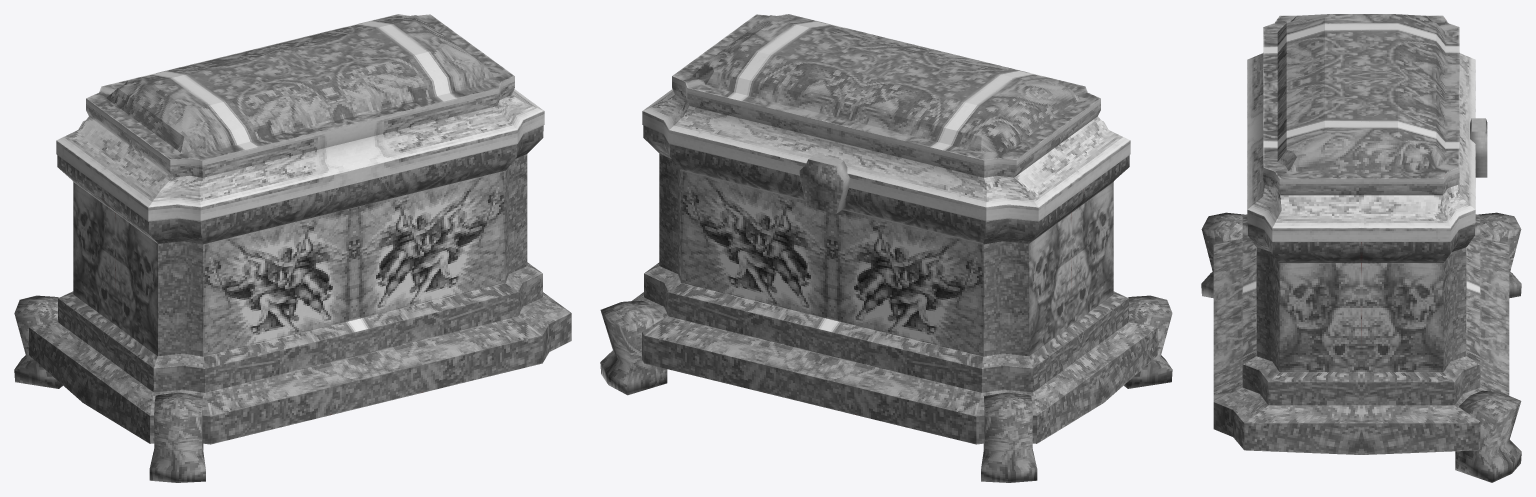
The model's file is ChestOpen.fbx.
3 views of the same model, side by side, from view 1: azimuth 30°, elevation 25°; view 2: azimuth 150°, elevation 25°; view 3: azimuth 270°, elevation 25° (orthographic). The views are drawn at different scales.
Parts seen in each view (by area): view 1: Cube.011, Cube.008, Cube.014, Cube.012; view 2: Cube.011, Cube.008, Cube.012, Cube.010, Cube.009, Cube.014; view 3: Cube.011, Cube.008, Cube.010, Cube.012, Cube.014, Cube.009.
Boxes of the visible parts, x1=… form: Cube.011: x1=29, y1=125, x2=571, y2=444; Cube.008: x1=56, y1=14, x2=544, y2=221; Cube.014: x1=149, y1=392, x2=205, y2=482; Cube.012: x1=14, y1=295, x2=62, y2=388; Cube.011: x1=631, y1=125, x2=1157, y2=444; Cube.008: x1=642, y1=14, x2=1130, y2=221; Cube.012: x1=981, y1=392, x2=1037, y2=482; Cube.010: x1=600, y1=300, x2=667, y2=395; Cube.009: x1=799, y1=154, x2=849, y2=213; Cube.014: x1=1124, y1=295, x2=1172, y2=388; Cube.011: x1=1213, y1=214, x2=1509, y2=454; Cube.008: x1=1247, y1=14, x2=1475, y2=241; Cube.010: x1=1455, y1=390, x2=1521, y2=482; Cube.012: x1=1477, y1=212, x2=1521, y2=298; Cube.014: x1=1201, y1=212, x2=1245, y2=298; Cube.009: x1=1470, y1=118, x2=1487, y2=177.
Bounding box in the file's own units: 714 × 489 × 467.
